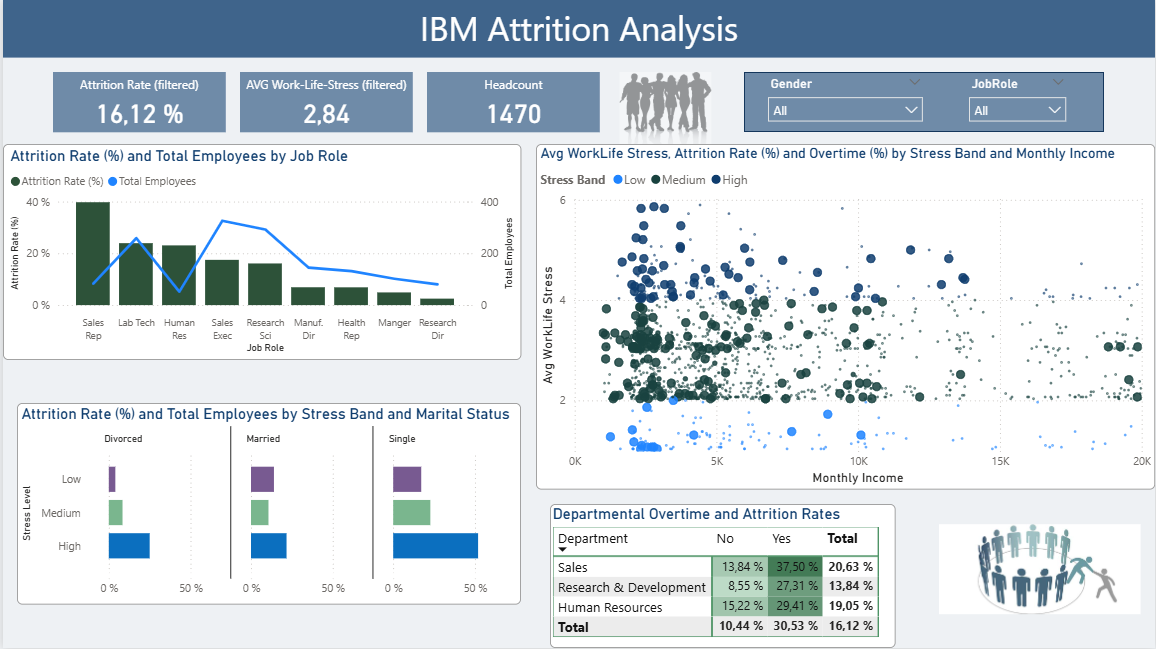

Layout of this report page (visuals, bound fields, positions):
{"tool":"powerbi","page":{"name":"Attrition Takeaways","canvas":[1280,720],"ordinal":0},"visuals":[{"type":"textbox","box":[0,0,1280,64],"z":0},{"type":"card","fields":{"Values":["Employee_Facts.Total Employees"]},"box":[472,80,192,66.7],"z":1000,"group":"g2"},{"type":"lineStackedColumnComboChart","title":"Attrition Rate (%) and Total Employees by Job Role","fields":{"Y":["measures .Attrition Rate (%)"],"Y2":["measures .Total Employees"],"Category":["Employee_Facts.JobRole_Short"]},"box":[0,160,576,240],"z":2000},{"type":"card","fields":{"Values":["Employee_Facts.Avg WorkLife Stress"]},"box":[264,80,192,66.7],"z":3000,"group":"g2"},{"type":"pivotTable","title":"Departmental Overtime and Attrition Rates","fields":{"Rows":["Employee_Facts.Department"],"Columns":["Employee_Facts.OverTime"],"Values":["measures .Attrition Rate (%)"]},"box":[608,560,384,160],"z":4000},{"type":"card","fields":{"Values":["Employee_Facts.Attrition Rate (%)"]},"box":[56,80,192,66.7],"z":5000,"group":"g2"},{"type":"clusteredBarChart","title":"Attrition Rate (%) and Total Employees by Stress Band and Marital Status","fields":{"Category":["Employee_Facts.Stress Band"],"Y":["measures .Attrition Rate (%)"],"Rows":["Employee_Facts.MaritalStatus"]},"box":[16,448,560,224],"z":6000},{"type":"scatterChart","title":"Avg WorkLife Stress, Attrition Rate (%) and Overtime (%) by Stress Band and Monthly Income","fields":{"Series":["Employee_Facts.Stress Band"],"X":["Employee_Facts.MonthlyIncome"],"Y":["measures .Avg WorkLife Stress"],"Size":["measures .Attrition Rate (%)"]},"box":[592,160,688,384],"z":7000},{"type":"image","box":[1040,544,224,176],"z":8000},{"type":"shape","box":[824,80,400,66.7],"z":9000,"group":"g2"},{"type":"slicer","fields":{"Values":["Employee_Facts.JobRole"]},"box":[1064,80,128,66.7],"z":10000,"group":"g2"},{"type":"slicer","fields":{"Values":["Employee_Facts.Gender"]},"box":[840,80,192,66.7],"z":11000,"group":"g2"},{"type":"image","box":[680,80,112,80],"z":12000,"group":"g2"},{"type":"group","id":"g1","title":"Group 1","box":[56,80,1168,80],"z":12001},{"type":"group","id":"g2","title":"Group 2","box":[56,80,1168,80],"z":12002,"group":"g1"}]}

Visuals, with their boxes in screenshot pixels (x1, y1, x2, y2), scaled from the page's 1280x720 canvas onto the 1156x649 screenshot:
textbox: {"left": 0, "top": 0, "right": 1155, "bottom": 58}
card - Employee_Facts.Total Employees: {"left": 426, "top": 72, "right": 600, "bottom": 132}
"Attrition Rate (%) and Total Employees by Job Role" lineStackedColumnComboChart: {"left": 0, "top": 144, "right": 520, "bottom": 361}
card - Employee_Facts.Avg WorkLife Stress: {"left": 238, "top": 72, "right": 412, "bottom": 132}
"Departmental Overtime and Attrition Rates" pivotTable: {"left": 549, "top": 505, "right": 896, "bottom": 648}
card - Employee_Facts.Attrition Rate (%): {"left": 51, "top": 72, "right": 224, "bottom": 132}
"Attrition Rate (%) and Total Employees by Stress Band and Marital Status" clusteredBarChart: {"left": 14, "top": 404, "right": 520, "bottom": 606}
"Avg WorkLife Stress, Attrition Rate (%) and Overtime (%) by Stress Band and Monthly Income" scatterChart: {"left": 535, "top": 144, "right": 1155, "bottom": 490}
image: {"left": 939, "top": 490, "right": 1142, "bottom": 648}
shape: {"left": 744, "top": 72, "right": 1105, "bottom": 132}
slicer - Employee_Facts.JobRole: {"left": 961, "top": 72, "right": 1077, "bottom": 132}
slicer - Employee_Facts.Gender: {"left": 759, "top": 72, "right": 932, "bottom": 132}
image: {"left": 614, "top": 72, "right": 715, "bottom": 144}
"Group 1" group: {"left": 51, "top": 72, "right": 1105, "bottom": 144}
"Group 2" group: {"left": 51, "top": 72, "right": 1105, "bottom": 144}
